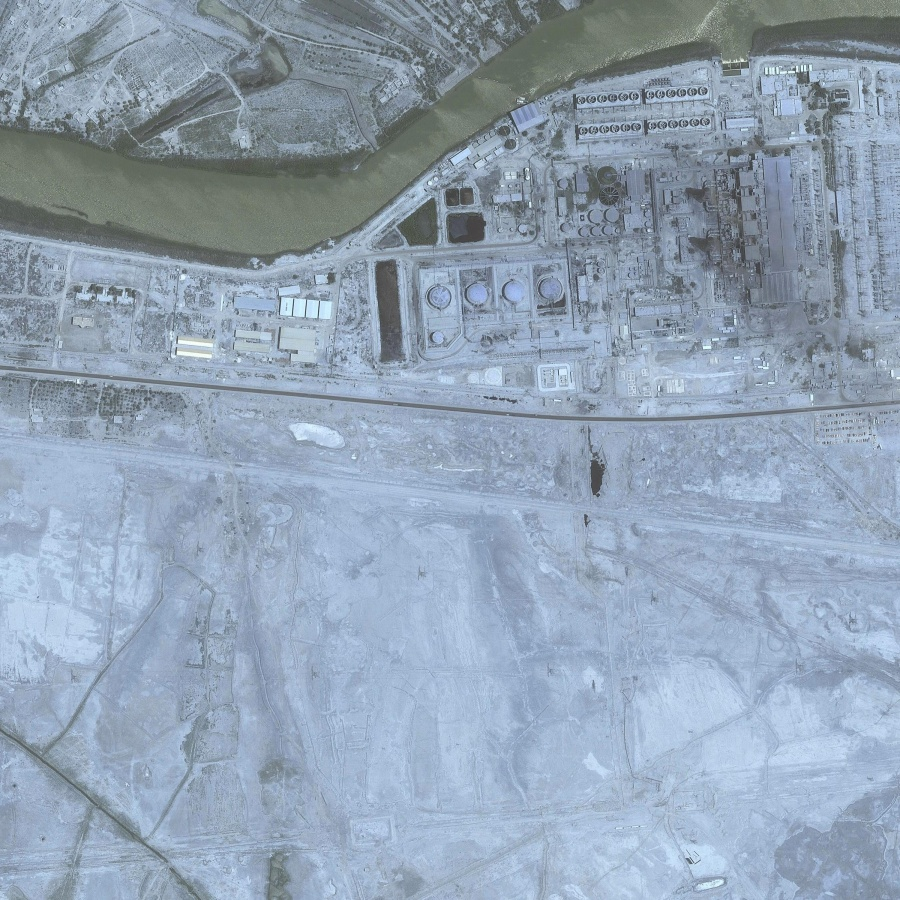PowerPlant: (352, 80, 852, 379)
